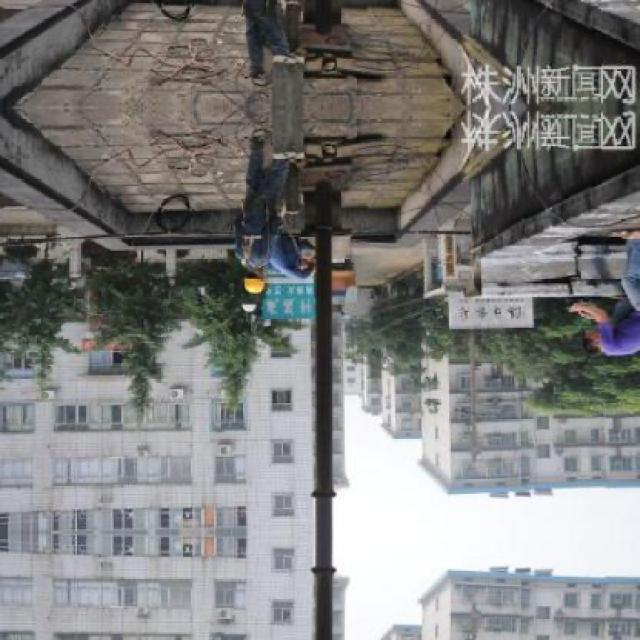con casco: (218, 250, 298, 310)
sin casco: (550, 323, 612, 362)
